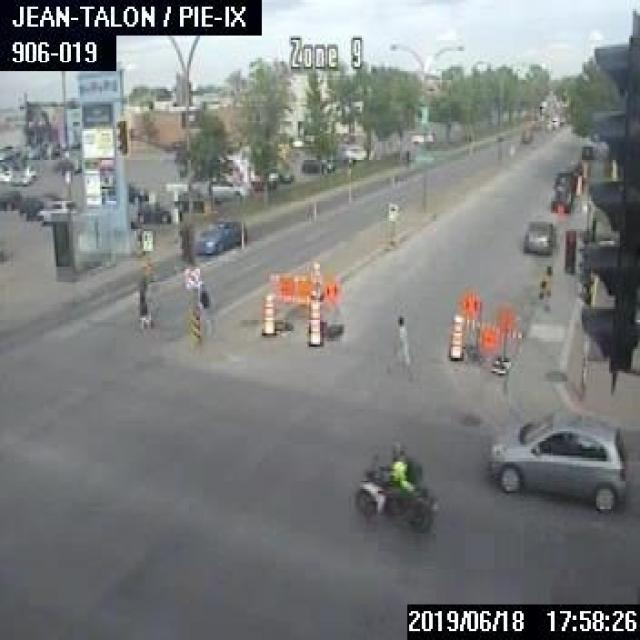construction: (266, 260, 343, 341), (453, 285, 521, 376), (306, 296, 322, 347), (446, 313, 463, 358), (258, 294, 276, 334)
pedestrian: (132, 269, 152, 329), (390, 313, 407, 369), (195, 276, 207, 324)
vehicle: (488, 402, 628, 516), (352, 442, 434, 531), (194, 217, 246, 256), (521, 218, 556, 253), (200, 176, 250, 200), (174, 188, 218, 214), (138, 198, 181, 224), (36, 198, 75, 225), (19, 193, 59, 219), (547, 185, 573, 211), (11, 162, 37, 185), (299, 155, 332, 172), (0, 189, 25, 211), (342, 144, 375, 160), (552, 169, 574, 190), (52, 155, 79, 172), (327, 150, 355, 166), (128, 182, 149, 202), (578, 142, 596, 158), (410, 130, 433, 142), (566, 158, 582, 172), (0, 160, 11, 180), (548, 114, 559, 125)
